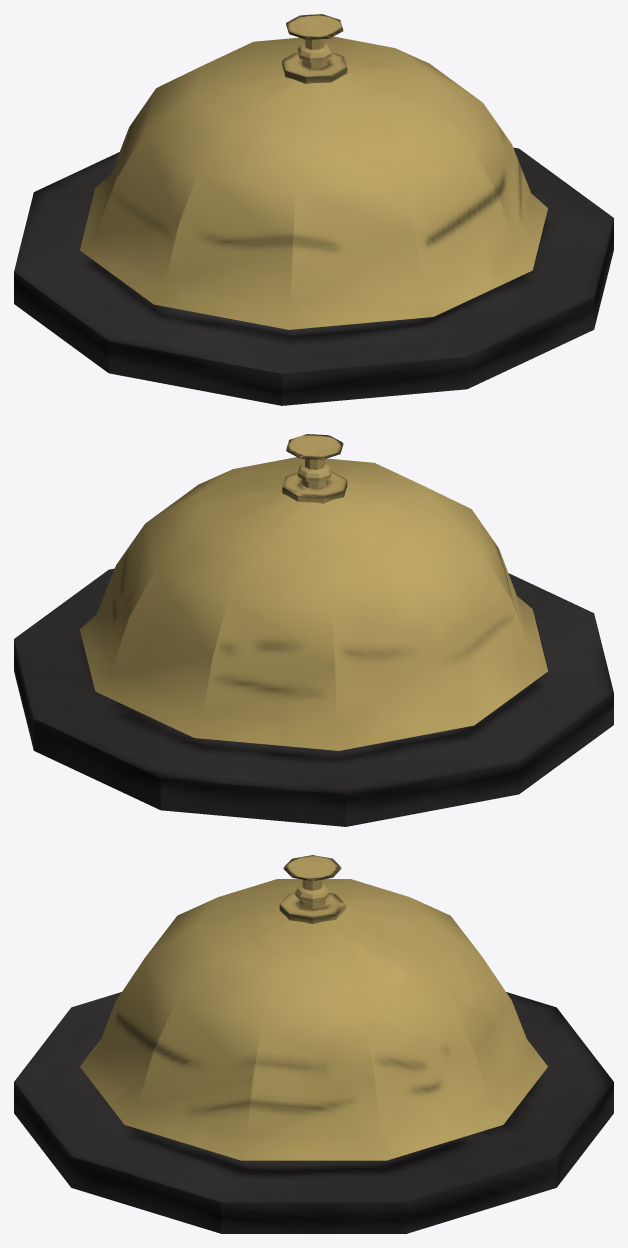
The model's file is Service_bell.fbx.
The picture shows the model from 3 angles, top to bottom: view 1: azimuth 30°, elevation 25°; view 2: azimuth 150°, elevation 25°; view 3: azimuth 270°, elevation 25°; orthographic projection. The views are drawn at different scales.
Visible parts, largest first — view 1: Service_bell; view 2: Service_bell; view 3: Service_bell.
Boxes of the visible parts, bbox=[...] form: Service_bell: bbox=[14, 14, 613, 405]; Service_bell: bbox=[14, 434, 613, 826]; Service_bell: bbox=[14, 855, 613, 1233].
Bounding box in the file's own units: 27.71 × 13.18 × 29.14.
1 material, 1 textured.
